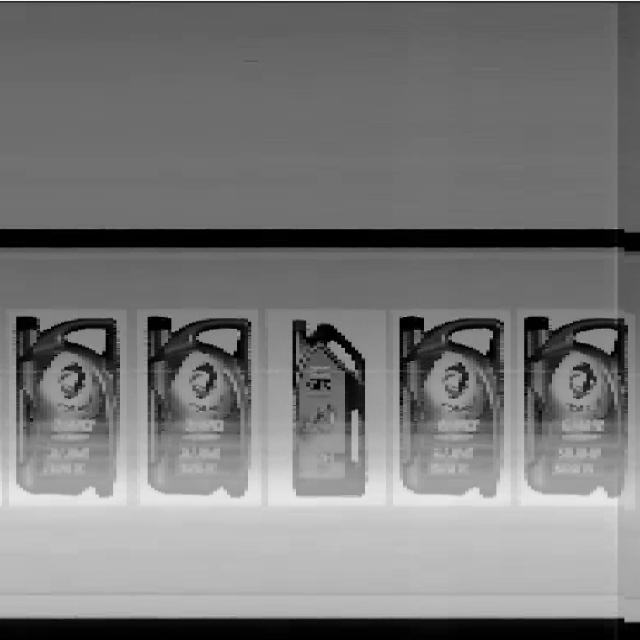motor_oil: (10, 305, 125, 505), (398, 310, 508, 503), (145, 310, 254, 500), (522, 313, 632, 499), (290, 310, 372, 503)
